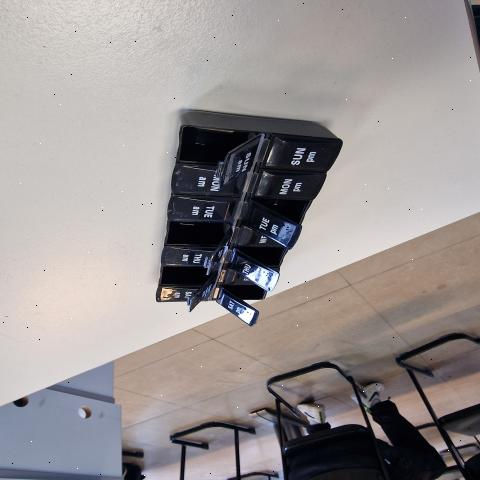Open: (178, 127, 261, 188), (166, 221, 232, 271), (250, 198, 312, 226), (233, 247, 285, 275), (165, 265, 214, 288), (224, 285, 265, 299)
